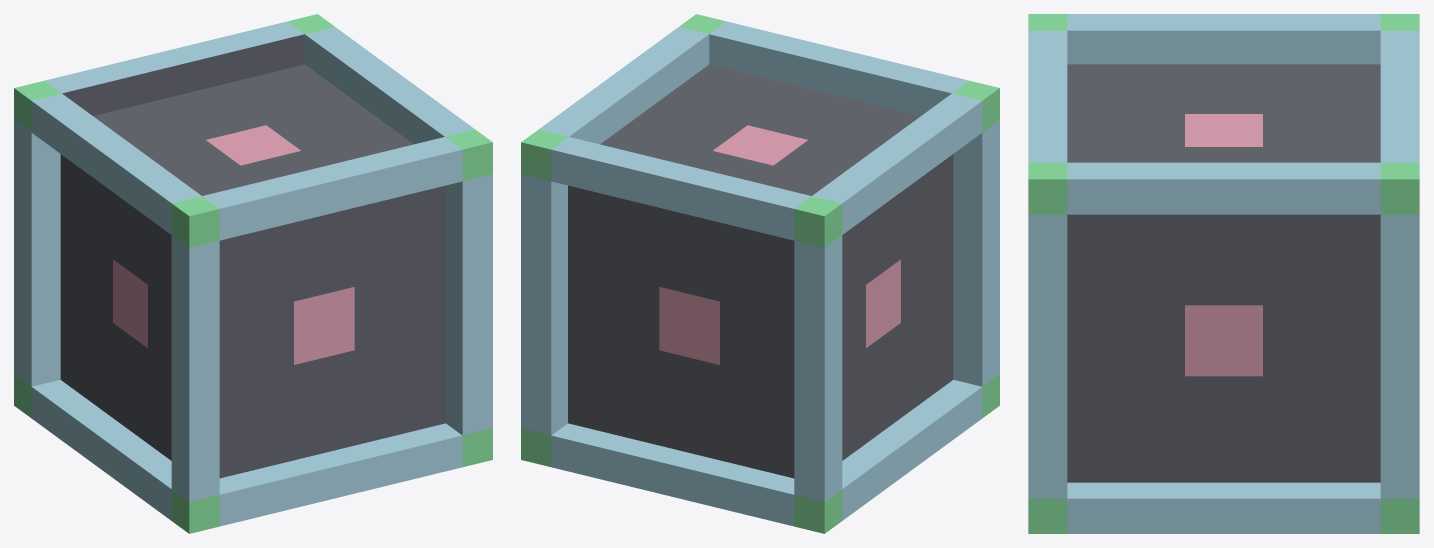
File: throwable_cube.fbx
3 views of the same model, side by side, from view 1: azimuth 30°, elevation 25°; view 2: azimuth 150°, elevation 25°; view 3: azimuth 270°, elevation 25° (orthographic). The views are drawn at different scales.
Parts seen in each view (by area): view 1: Cube; view 2: Cube; view 3: Cube.
Boxes of the visible parts, left/top/right/bottom form: Cube: left=14, top=14, right=492, bottom=533; Cube: left=521, top=14, right=999, bottom=533; Cube: left=1028, top=14, right=1419, bottom=533.
Size of the model in its own units: 200 by 200 by 200.
